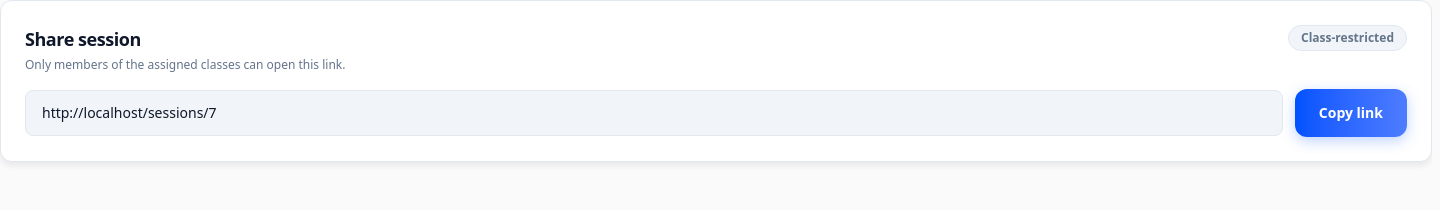
Test case: SessionShareCard › copies via the clipboard API and shows confirmation
Click the button with aria-label "Copy participant link". click: [1351, 113]
box: [1295,89,1407,137]
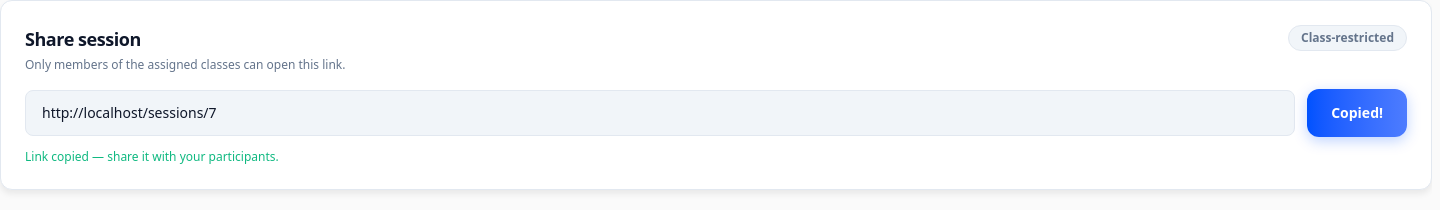
Now the text "Link copied — share it with your participants." is shown, box [25,148,279,165]
